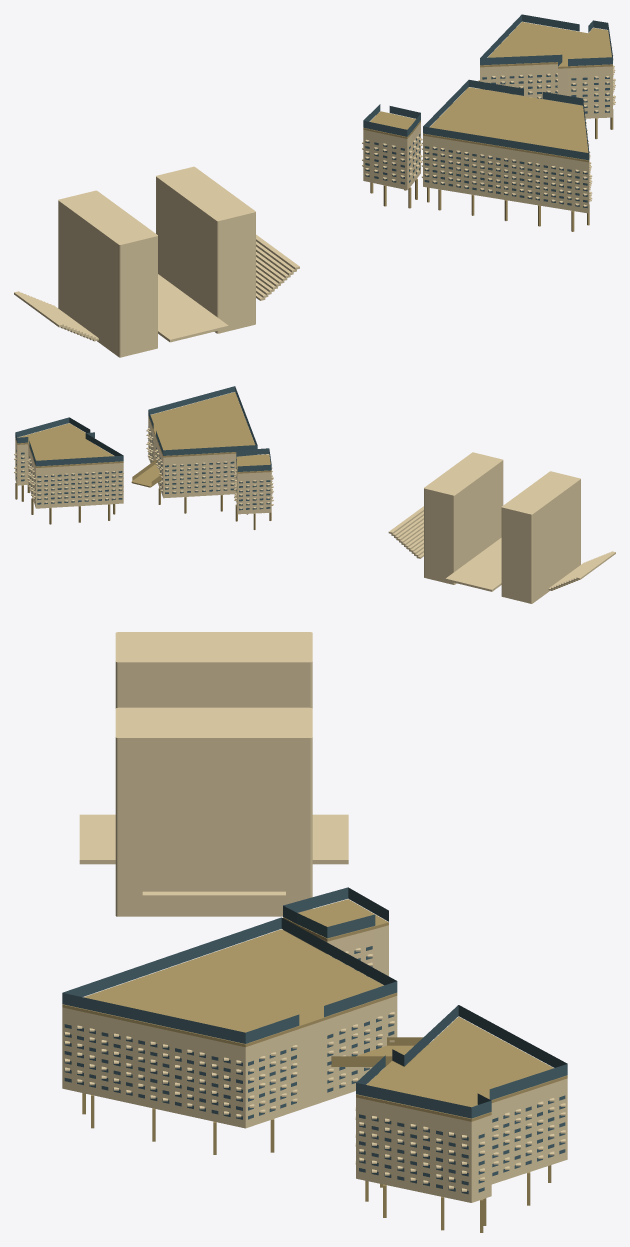
Rendered from valletta-gate.glb.
3 views of the same model, one above another, from view 1: azimuth 30°, elevation 25°; view 2: azimuth 150°, elevation 25°; view 3: azimuth 270°, elevation 25° (orthographic). The views are drawn at different scales.
Visible parts, largest first — view 1: City Gate - Mauern und Treppen, Parlament Baukoerper 1, Parlament Baukoerper 2, Parlament Baukoerper 3; view 2: City Gate - Mauern und Treppen, Parlament Baukoerper 1, Parlament Baukoerper 2, Parlament Baukoerper 3, Verbindungsbruecken; view 3: City Gate - Mauern und Treppen, Parlament Baukoerper 1, Parlament Baukoerper 2, Parlament Baukoerper 3, Verbindungsbruecken.
Part boxes in pixels (left/top/right/bottom): City Gate - Mauern und Treppen: left=14, top=166, right=299, bottom=357; Parlament Baukoerper 1: left=421, top=79, right=592, bottom=231; Parlament Baukoerper 2: left=478, top=14, right=615, bottom=139; Parlament Baukoerper 3: left=362, top=104, right=422, bottom=208; City Gate - Mauern und Treppen: left=388, top=452, right=615, bottom=603; Parlament Baukoerper 1: left=146, top=386, right=257, bottom=513; Parlament Baukoerper 2: left=14, top=417, right=123, bottom=524; Parlament Baukoerper 3: left=233, top=448, right=273, bottom=529; Verbindungsbruecken: left=131, top=460, right=162, bottom=487; City Gate - Mauern und Treppen: left=79, top=632, right=348, bottom=916; Parlament Baukoerper 1: left=62, top=917, right=397, bottom=1154; Parlament Baukoerper 2: left=355, top=1005, right=567, bottom=1232; Parlament Baukoerper 3: left=283, top=887, right=388, bottom=985; Verbindungsbruecken: left=331, top=1037, right=428, bottom=1066.
Bounding box in the file's own units: 134 × 22 × 56.41.
